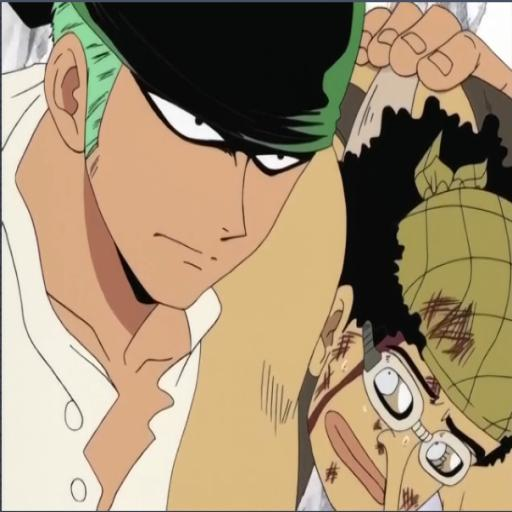Usopp: (290, 184, 512, 512)
Zoro: (0, 4, 332, 511)
